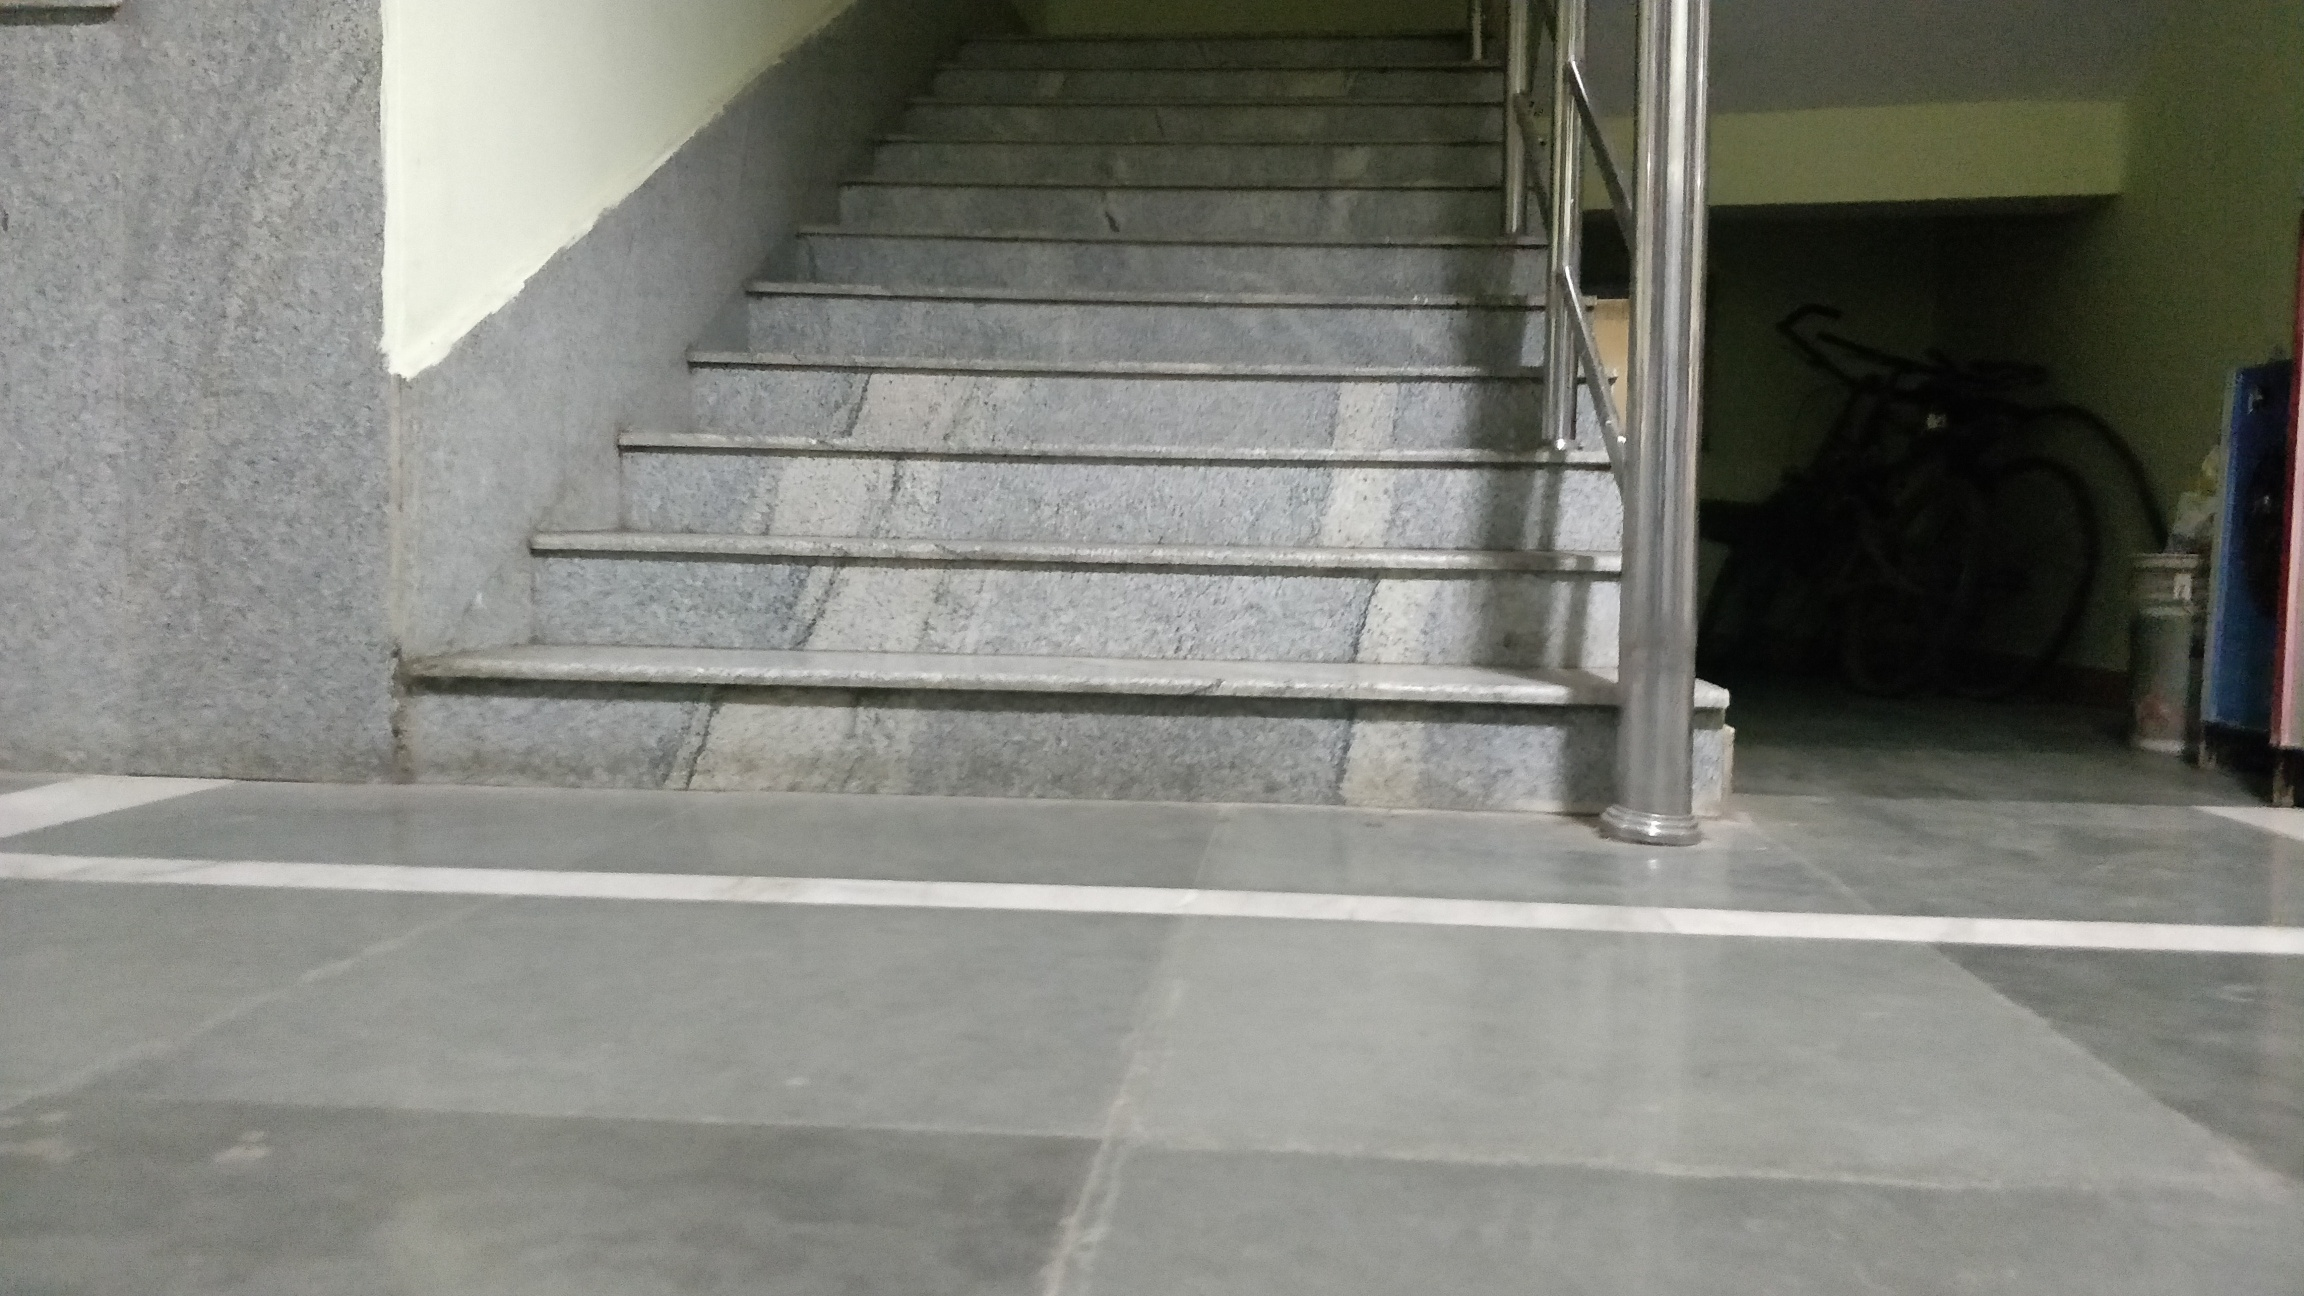stairs_up: (464, 43, 1608, 836)
